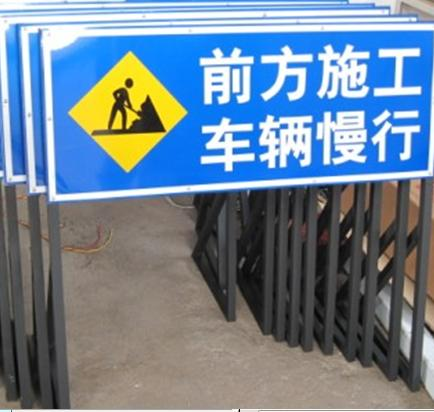sign: (43, 30, 430, 179)
